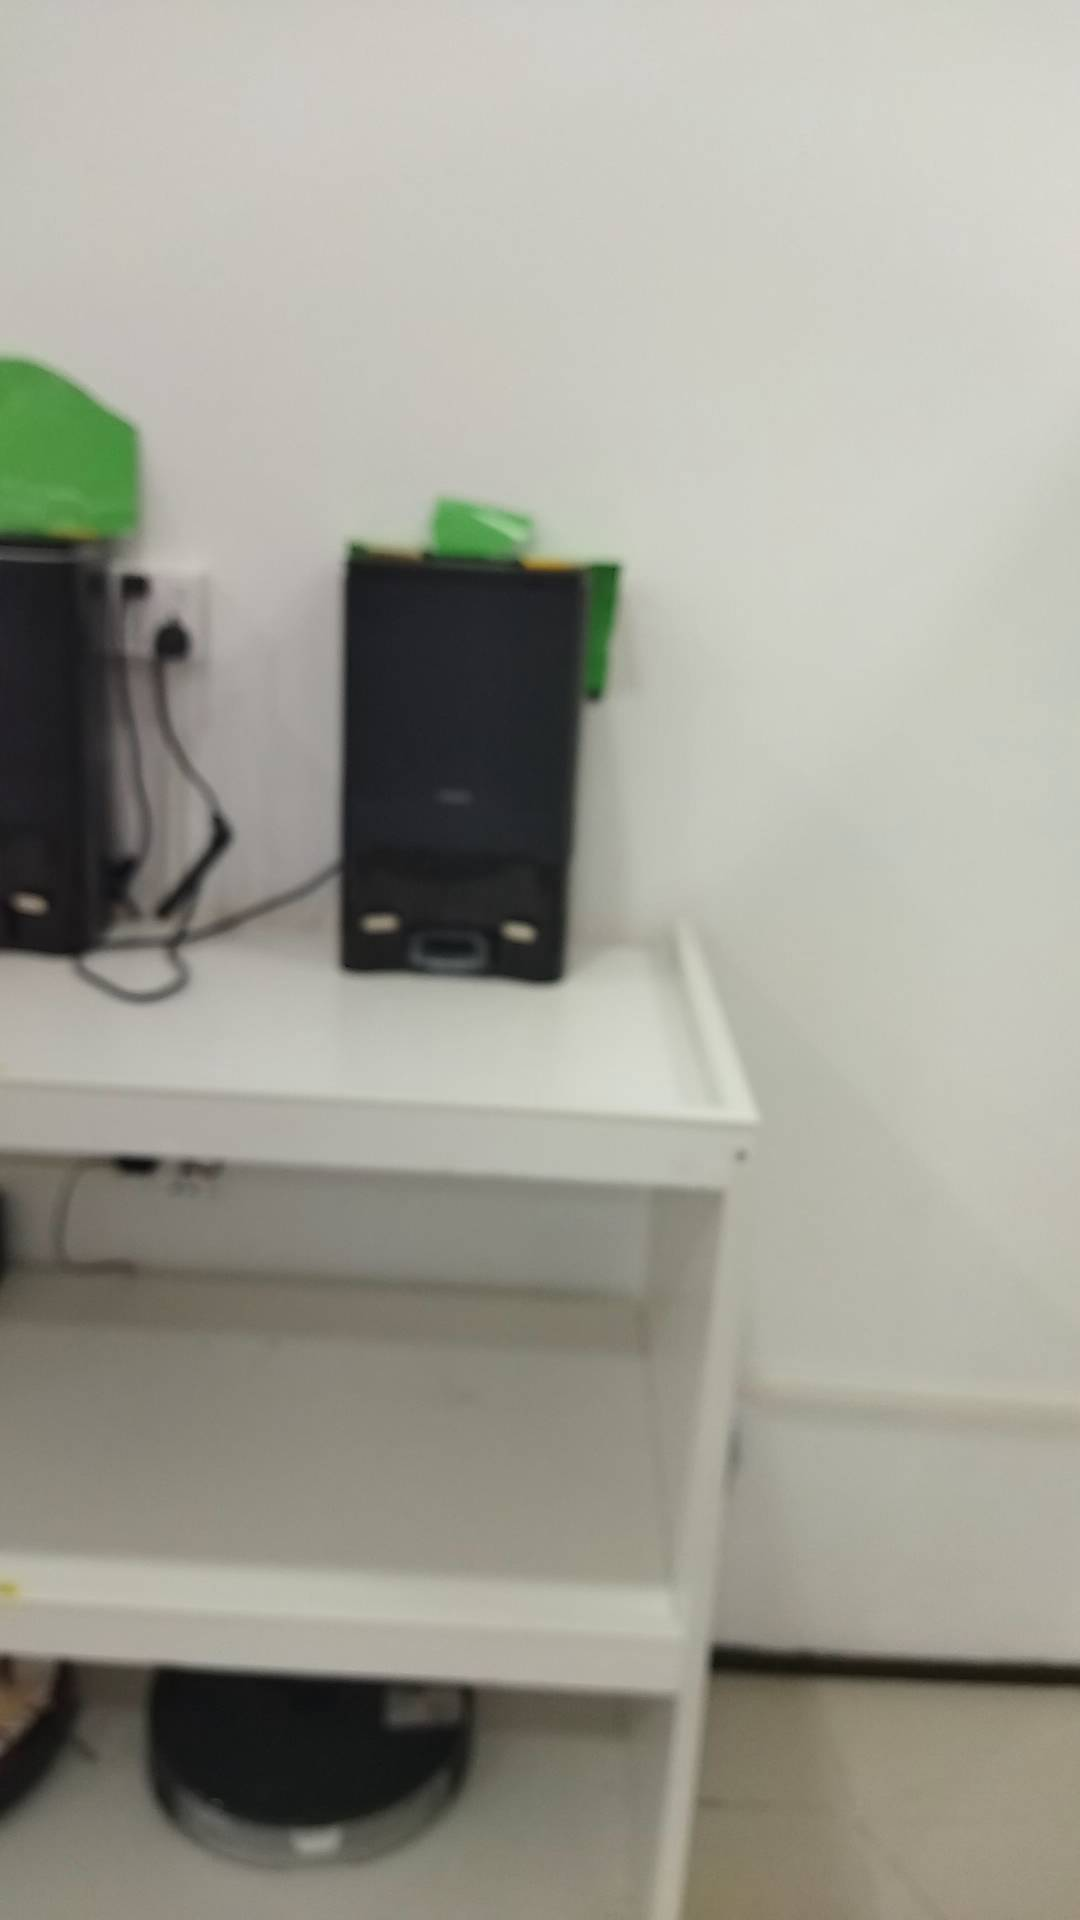dust collecting barrel: (339, 550, 587, 989), (1, 527, 111, 956)
